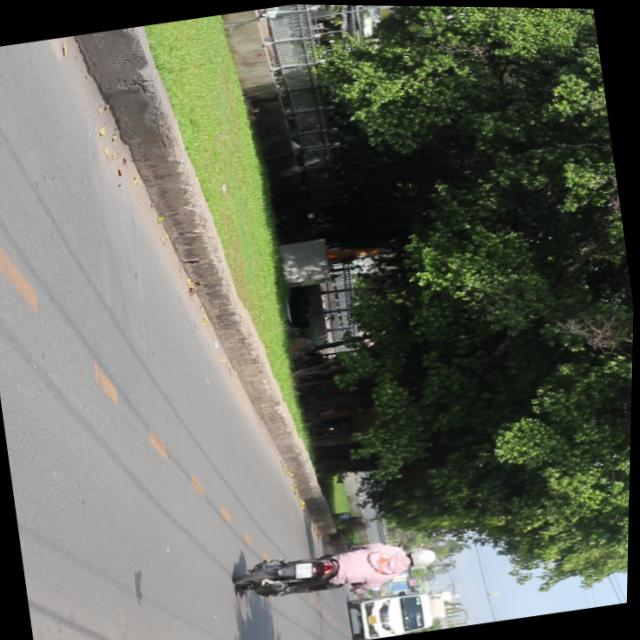helmet: (409, 543, 443, 569)
licenseplate: (235, 526, 443, 610)
nohelmet: (296, 560, 316, 578)
